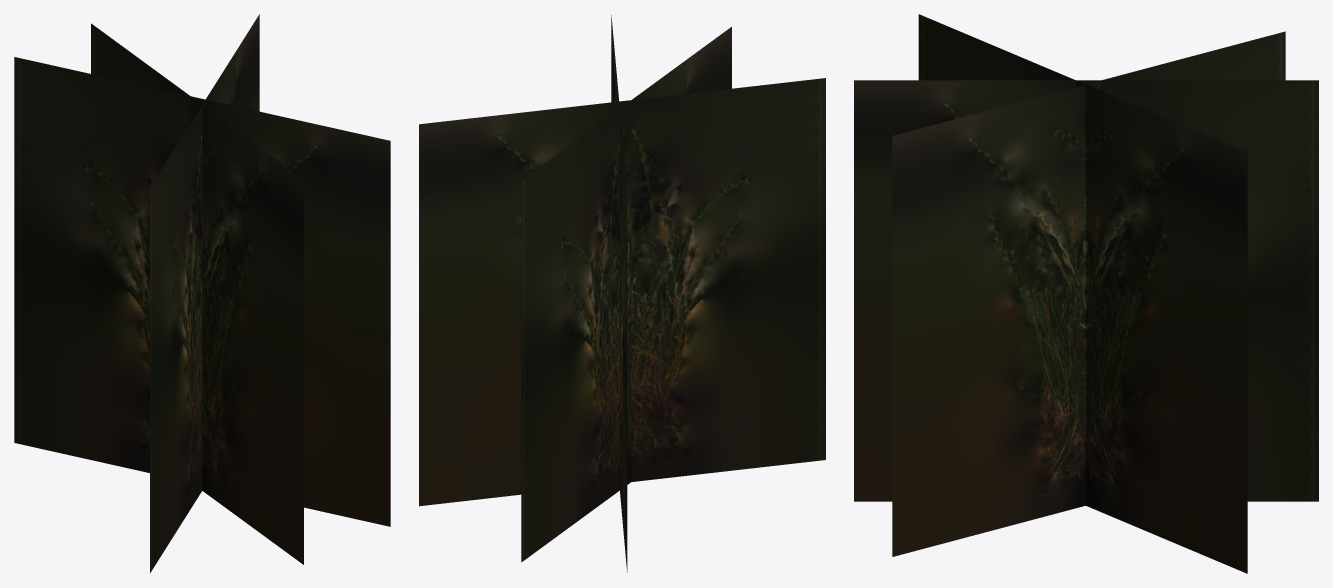
Rendered from grass5.gltf.
3 renders of one model, left to right at view 1: azimuth 30°, elevation 25°; view 2: azimuth 150°, elevation 25°; view 3: azimuth 270°, elevation 25°, orthographic. The views are drawn at different scales.
Visible parts, largest first — view 1: Plano; view 2: Plano; view 3: Plano.
Part boxes in pixels (<box>): Plano: <box>14,14,390,572</box>; Plano: <box>419,15,825,572</box>; Plano: <box>854,14,1318,573</box>.
Size of the model in its own units: 0.7062 by 1 by 1.
1 material, 1 textured.
